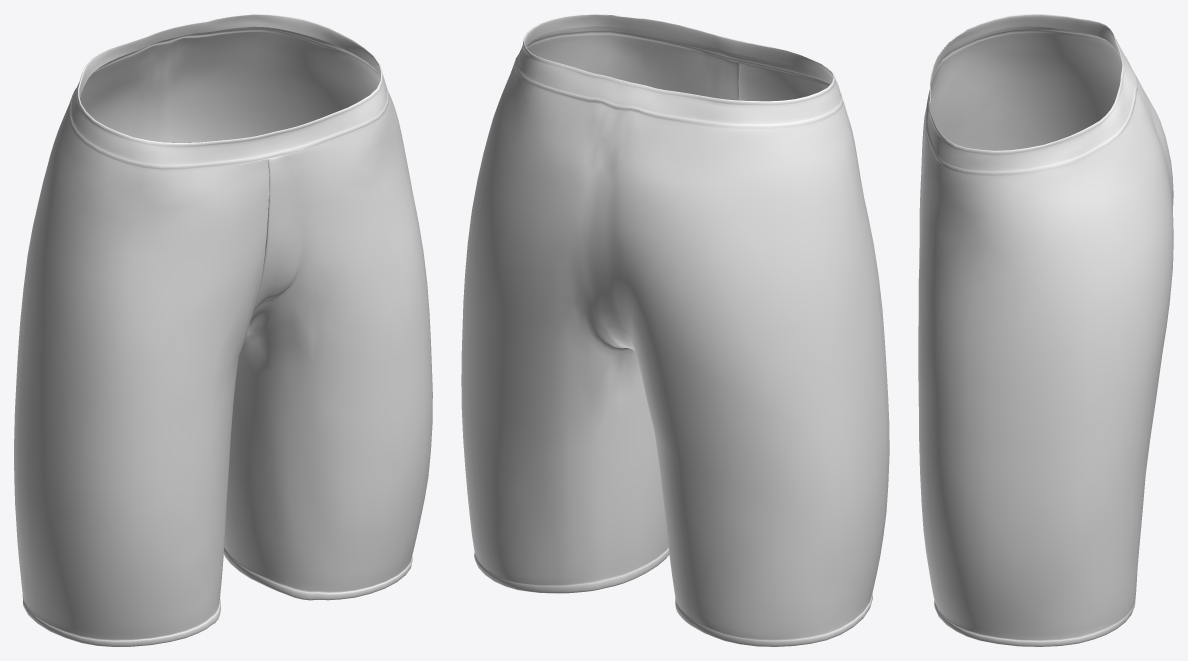
Rendered from Shorts.glb.
3 views of the same model, side by side, from view 1: azimuth 30°, elevation 25°; view 2: azimuth 150°, elevation 25°; view 3: azimuth 270°, elevation 25° (orthographic). The views are drawn at different scales.
Parts seen in each view (by area): view 1: Boxers_for_Genesis.004; view 2: Boxers_for_Genesis.004; view 3: Boxers_for_Genesis.004.
Part boxes in pixels (x1,y1,x2,y2): Boxers_for_Genesis.004: (14, 14, 432, 646); Boxers_for_Genesis.004: (461, 14, 889, 646); Boxers_for_Genesis.004: (918, 14, 1173, 646).
Size of the model in its own units: 7.61 by 10.04 by 4.65.
1 material, 1 textured.
